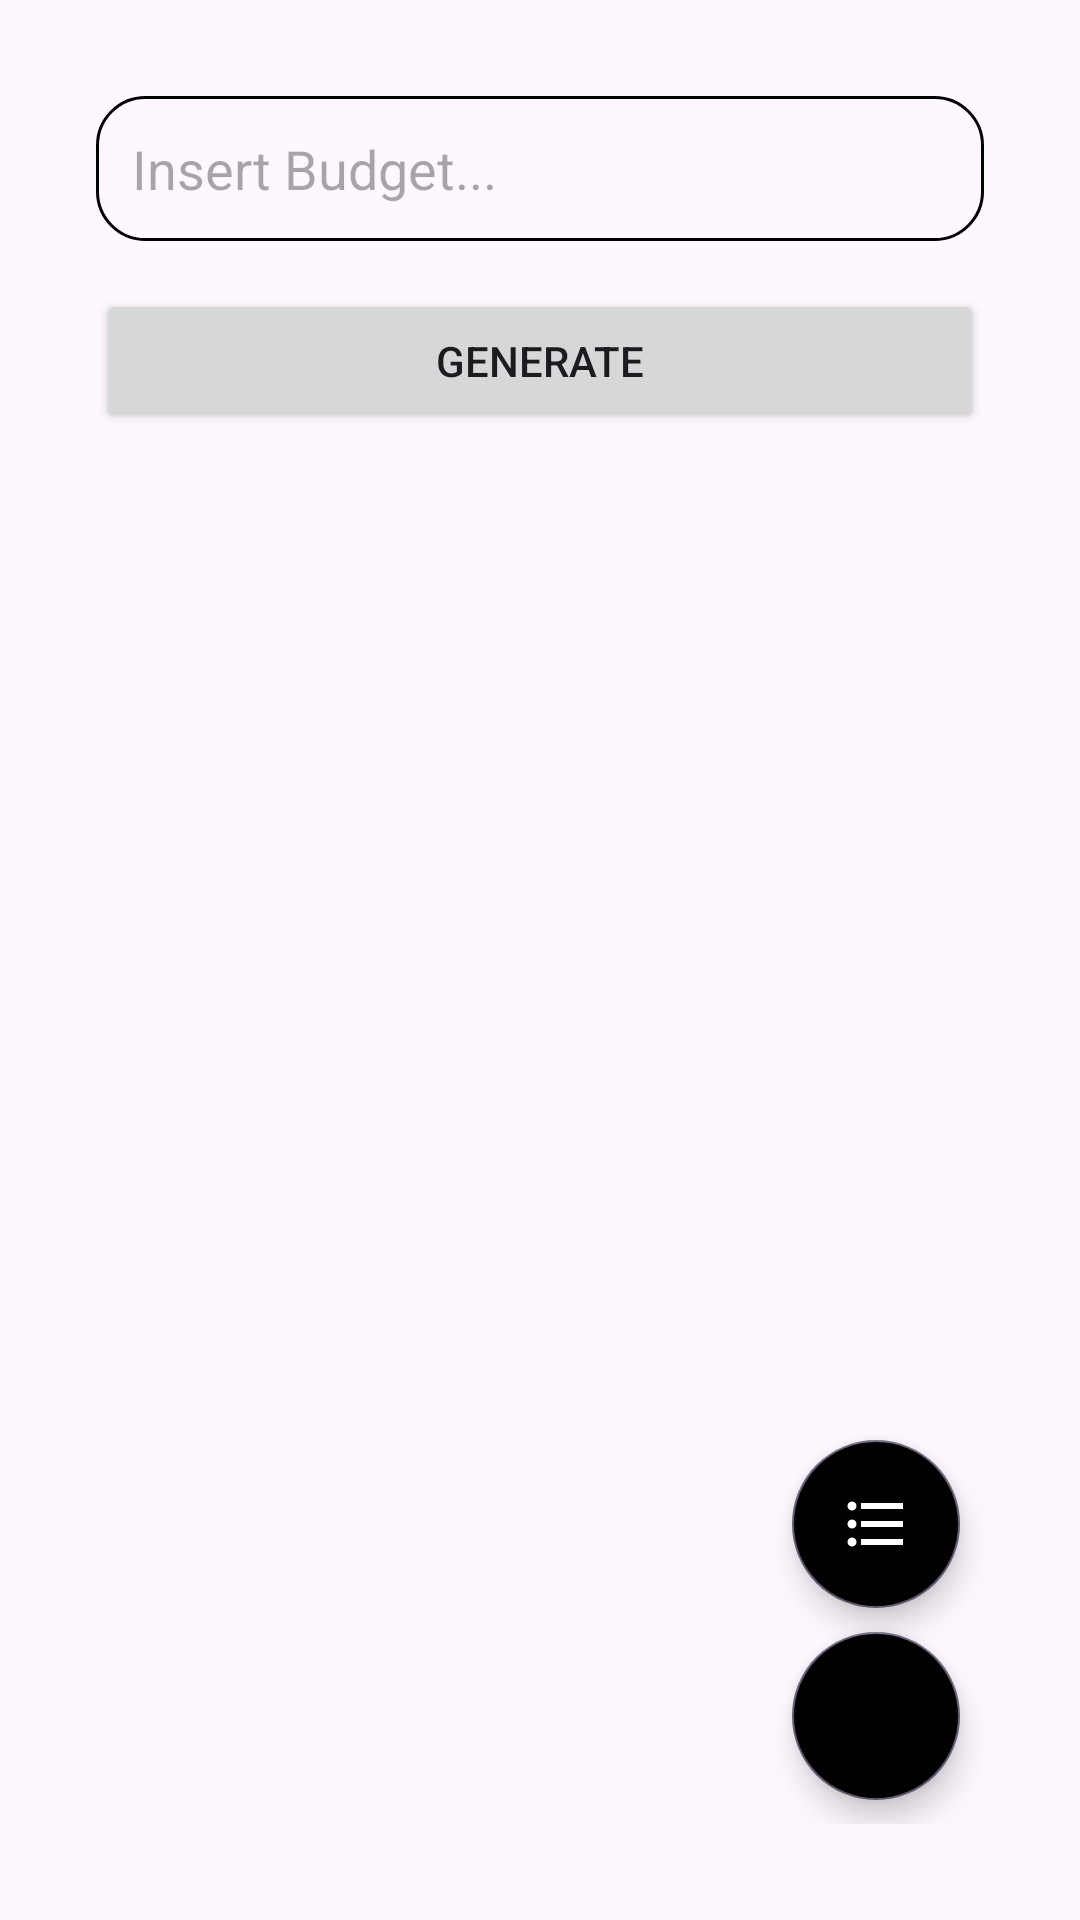

Screen size 1080 × 1920. Icon name, then its center in pixels as point (x, y):
list item: point (876, 1524)
